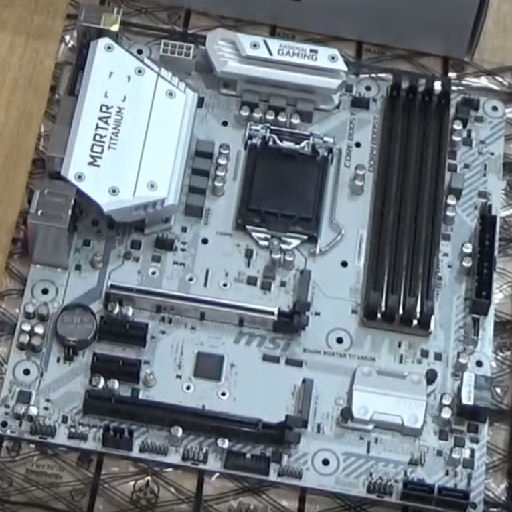CPU: (231, 136, 331, 252)
GPU: (79, 388, 301, 451), (101, 281, 309, 335)
MOTHERBOARD: (9, 27, 492, 510)
RAM: (367, 76, 452, 330)
SSD: (291, 377, 312, 425), (293, 268, 314, 308)
